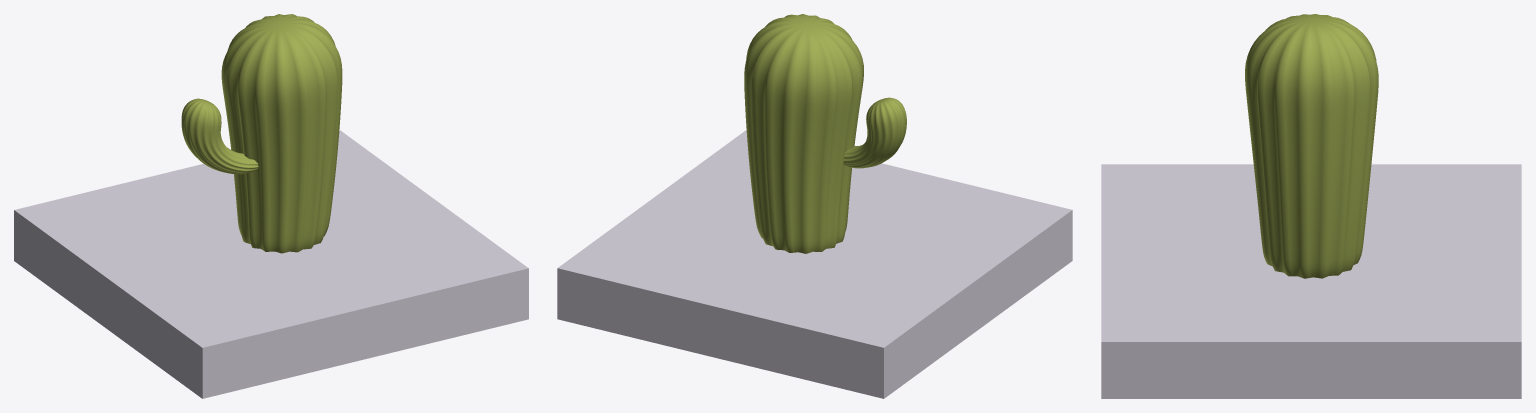
Rendered from desert_small_cactus.fbx.
The picture shows the model from 3 angles, left to right: view 1: azimuth 30°, elevation 25°; view 2: azimuth 150°, elevation 25°; view 3: azimuth 270°, elevation 25°; orthographic projection. The views are drawn at different scales.
Parts seen in each view (by area): view 1: Cube.030, small cactus; view 2: Cube.030, small cactus; view 3: Cube.030, small cactus.
Boxes of the visible parts, <box> form: Cube.030: <box>14,130,528,398</box>; small cactus: <box>181,14,342,253</box>; Cube.030: <box>557,130,1072,398</box>; small cactus: <box>744,14,906,253</box>; Cube.030: <box>1101,164,1521,398</box>; small cactus: <box>1245,14,1378,278</box>.
Bounding box in the file's own units: 162 × 126 × 162.
